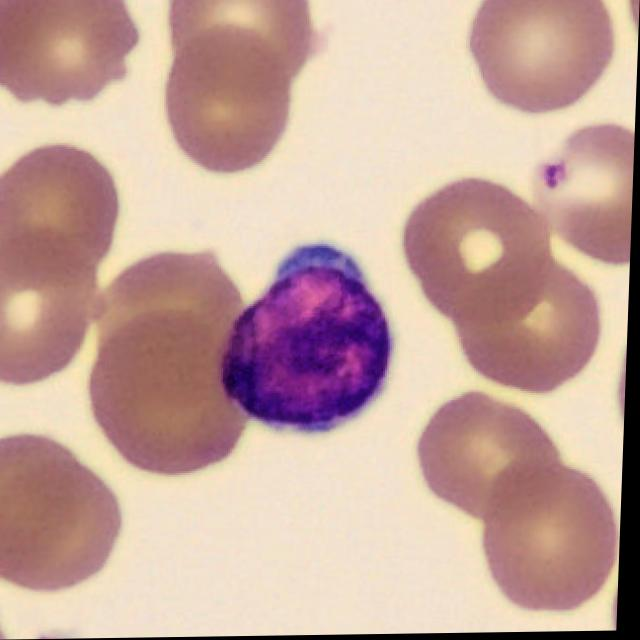Linfocito: (224, 245, 390, 433)
